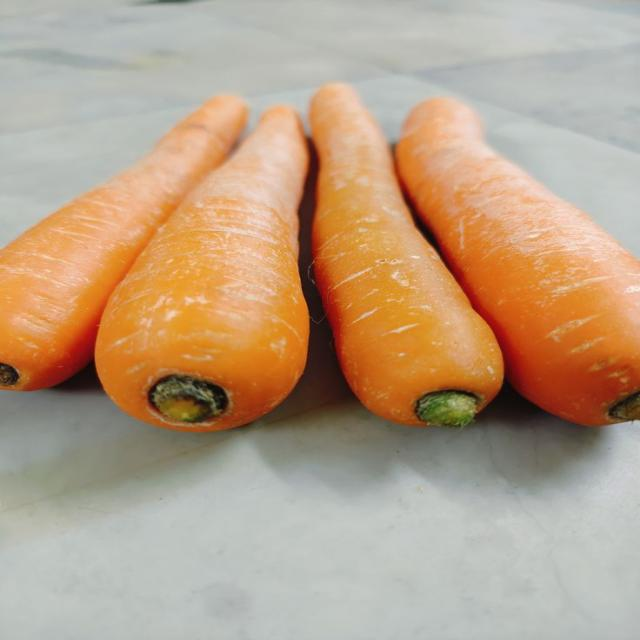carrot: (397, 98, 639, 425), (0, 96, 246, 390), (96, 107, 308, 431), (310, 85, 502, 426)
